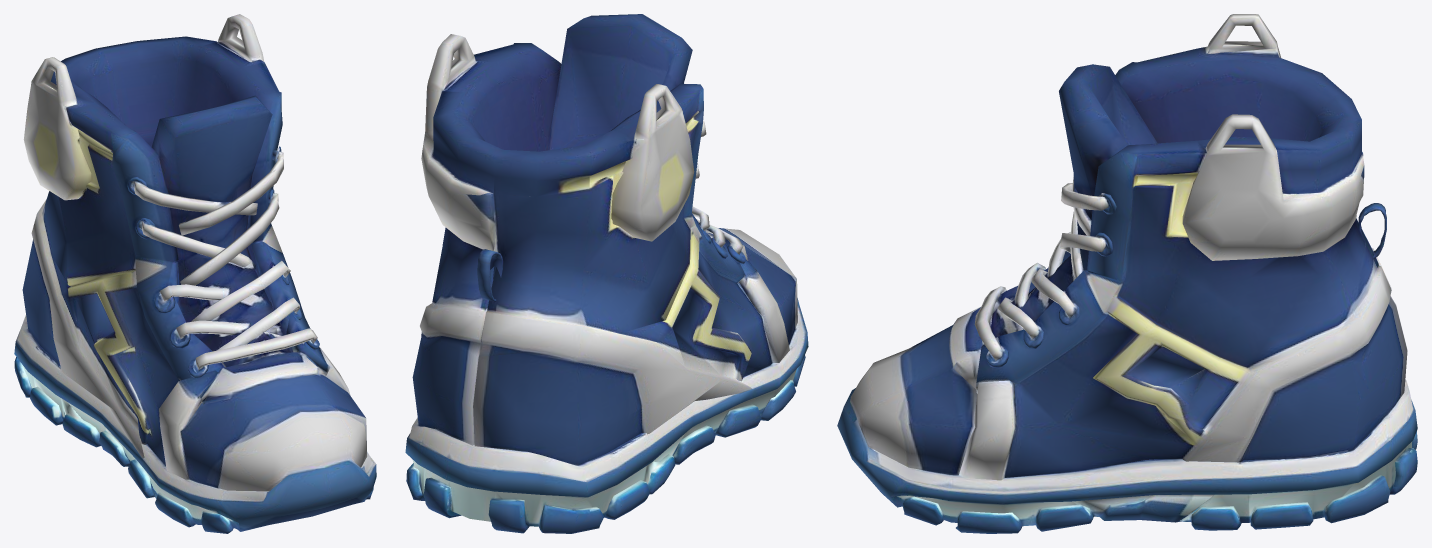
File: 신속의장화.glb
3 renders of one model, left to right at view 1: azimuth 30°, elevation 25°; view 2: azimuth 150°, elevation 25°; view 3: azimuth 270°, elevation 25°, orthographic. The views are drawn at different scales.
Parts seen in each view (by area): view 1: tripo_node_194b2368-e878-4644-bf67-256ffcd2952c; view 2: tripo_node_194b2368-e878-4644-bf67-256ffcd2952c; view 3: tripo_node_194b2368-e878-4644-bf67-256ffcd2952c.
Part boxes in pixels (x1,y1,x2,y2): tripo_node_194b2368-e878-4644-bf67-256ffcd2952c: (14, 14, 376, 533); tripo_node_194b2368-e878-4644-bf67-256ffcd2952c: (405, 14, 808, 533); tripo_node_194b2368-e878-4644-bf67-256ffcd2952c: (837, 14, 1417, 533).
Size of the model in its own units: 0.459 by 0.7988 by 0.998.
1 material, 1 textured.
